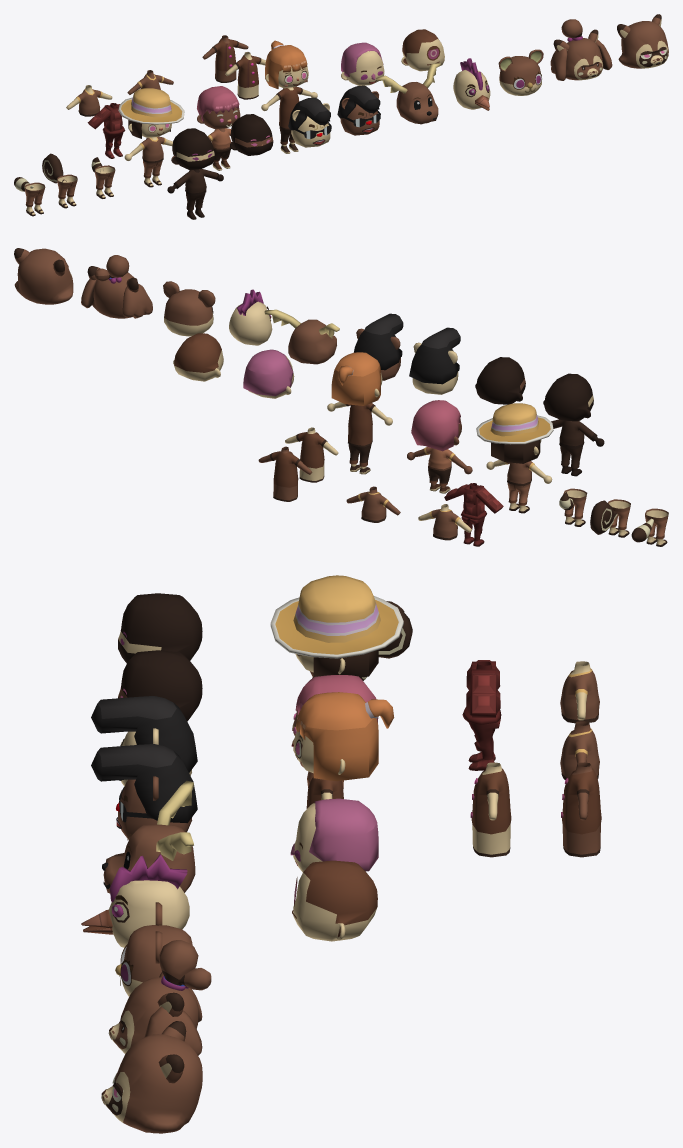
The model's file is aftermath_shotgun_clerk_characters.fbx.
3 views of the same model, one above another, from view 1: azimuth 30°, elevation 25°; view 2: azimuth 150°, elevation 25°; view 3: azimuth 270°, elevation 25° (orthographic). The views are drawn at different scales.
Visible parts, largest first — view 1: choco_dog_A_geo, choco_head_01_geo, choco_head_racoon_A_geo, choco_head_reindeer_A_geo, choco_head_mob_A_geo, choco_head_mob_B_geo, choco_head_03_geo, choco_head_squirrel_A_geo, choco_head_04_geo, choco_head_02_geo, choco_head_ninja_A_geo, choco_head_ninja_B_geo (+17 smaller); view 2: choco_head_01_geo, choco_dog_A_geo, choco_head_racoon_A_geo, choco_head_mob_A_geo, choco_head_03_geo, choco_head_squirrel_A_geo, choco_head_reindeer_A_geo, choco_head_02_geo, choco_head_mob_B_geo, choco_head_04_geo, choco_head_cyclops_geo, choco_head_ninja_B_geo (+19 smaller); view 3: choco_head_01_geo, choco_head_racoon_A_geo, choco_head_03_geo, choco_dog_A_geo, choco_head_mob_B_geo, choco_head_cyclops_geo, choco_head_chicken_A_geo, choco_head_04_geo, choco_head_mob_A_geo, choco_head_ninja_A_geo, choco_head_reindeer_A_geo, choco_head_ninja_B_geo (+8 smaller).
Boxes of the visible parts, x1,y1,x2,y2 form: choco_dog_A_geo: (550, 19, 612, 80); choco_head_01_geo: (118, 88, 184, 138); choco_head_racoon_A_geo: (617, 14, 668, 68); choco_head_reindeer_A_geo: (376, 63, 440, 124); choco_head_mob_A_geo: (288, 97, 331, 147); choco_head_mob_B_geo: (337, 85, 380, 135); choco_head_03_geo: (265, 40, 308, 88); choco_head_squirrel_A_geo: (498, 49, 543, 95); choco_head_04_geo: (341, 42, 384, 85); choco_head_02_geo: (197, 86, 240, 129); choco_head_ninja_A_geo: (171, 128, 214, 170); choco_head_ninja_B_geo: (230, 114, 273, 155); choco_head_01_geo: (476, 403, 553, 463); choco_dog_A_geo: (81, 255, 152, 318); choco_head_racoon_A_geo: (14, 248, 73, 304); choco_head_mob_A_geo: (409, 327, 460, 394); choco_head_03_geo: (331, 352, 382, 405); choco_head_squirrel_A_geo: (163, 281, 215, 336); choco_head_reindeer_A_geo: (264, 309, 339, 364); choco_head_02_geo: (411, 400, 461, 451); choco_head_mob_B_geo: (354, 313, 403, 380); choco_head_04_geo: (243, 349, 294, 398); choco_head_cyclops_geo: (173, 333, 223, 381); choco_head_ninja_B_geo: (475, 357, 525, 404); choco_head_01_geo: (270, 575, 403, 677); choco_head_racoon_A_geo: (101, 1021, 202, 1133); choco_head_03_geo: (291, 692, 394, 781); choco_dog_A_geo: (108, 940, 211, 1055); choco_head_mob_B_geo: (91, 744, 197, 839); choco_head_cyclops_geo: (292, 860, 377, 941); choco_head_chicken_A_geo: (81, 854, 189, 947); choco_head_04_geo: (290, 798, 378, 872); choco_head_mob_A_geo: (91, 696, 197, 786); choco_head_ninja_A_geo: (118, 593, 202, 663); choco_head_reindeer_A_geo: (102, 781, 195, 893); choco_head_ninja_B_geo: (118, 650, 202, 721).
Size of the model in its own units: 16.17 by 2.59 by 6.07.
